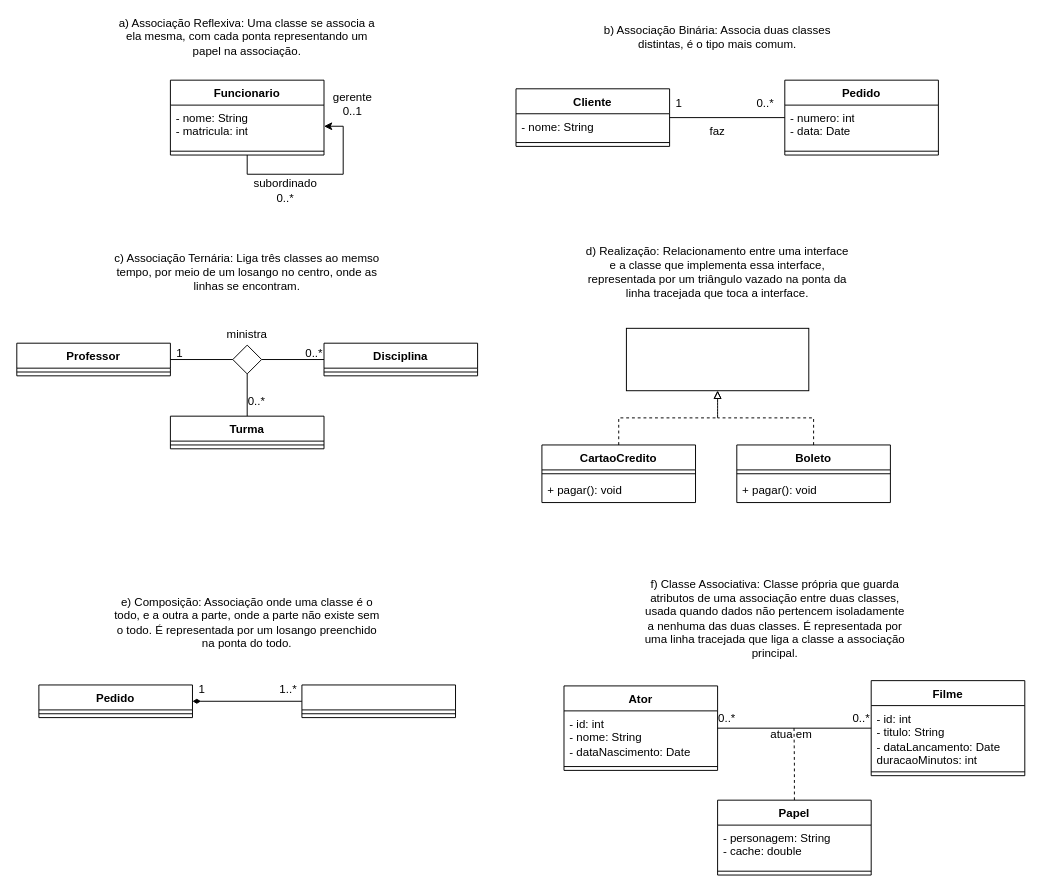
This 1042x892 diagram has some shape labels left out. Here are the shapes that lost their labels. From the top down, the centre of each, then its label:
At pixel 717 359: "<<Interface>> Pagavel + pagar(): void".
At pixel 378 701: "ItemPedido".
